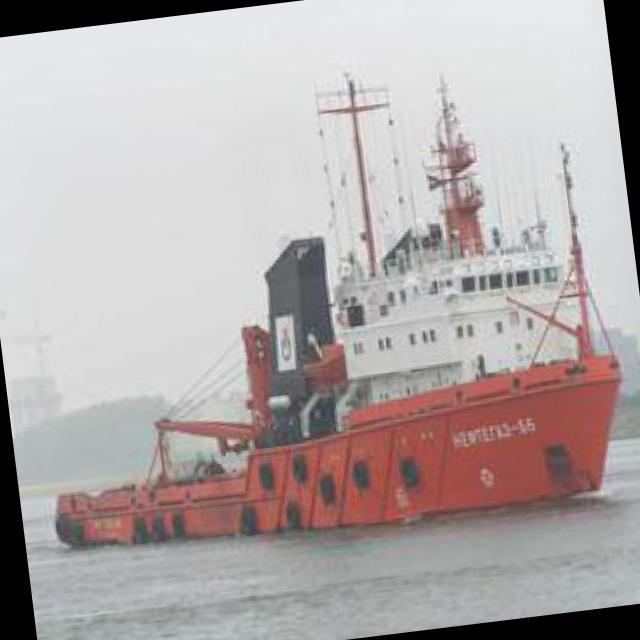boat: (16, 82, 620, 564)
